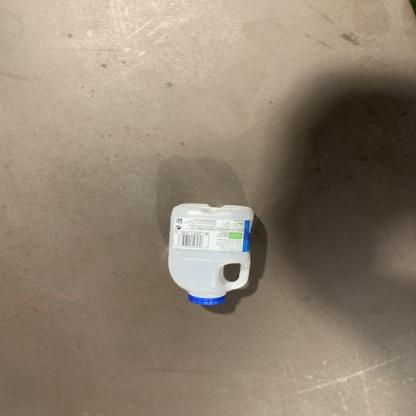trash: (164, 200, 263, 323)
